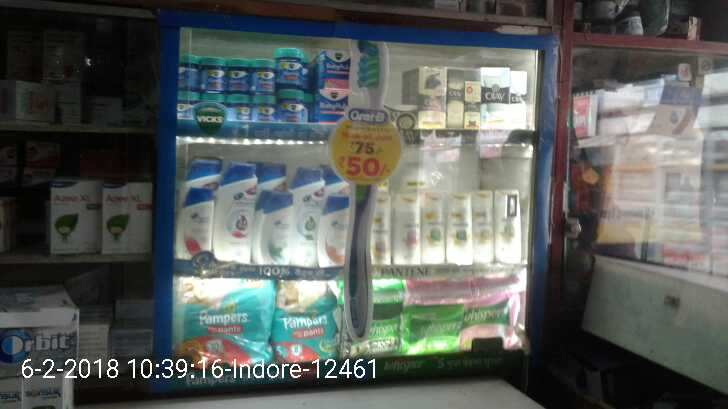beauty: (374, 188, 523, 264), (216, 161, 256, 270), (296, 173, 326, 266), (257, 186, 292, 265), (410, 62, 446, 132), (318, 194, 351, 270), (480, 67, 511, 130), (182, 191, 211, 258)
pharmacy: (174, 44, 349, 123), (179, 279, 274, 370), (455, 299, 521, 354), (276, 308, 339, 362), (403, 304, 464, 356)
